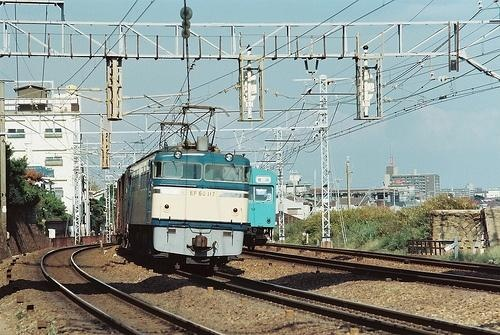train: (114, 107, 250, 283)
